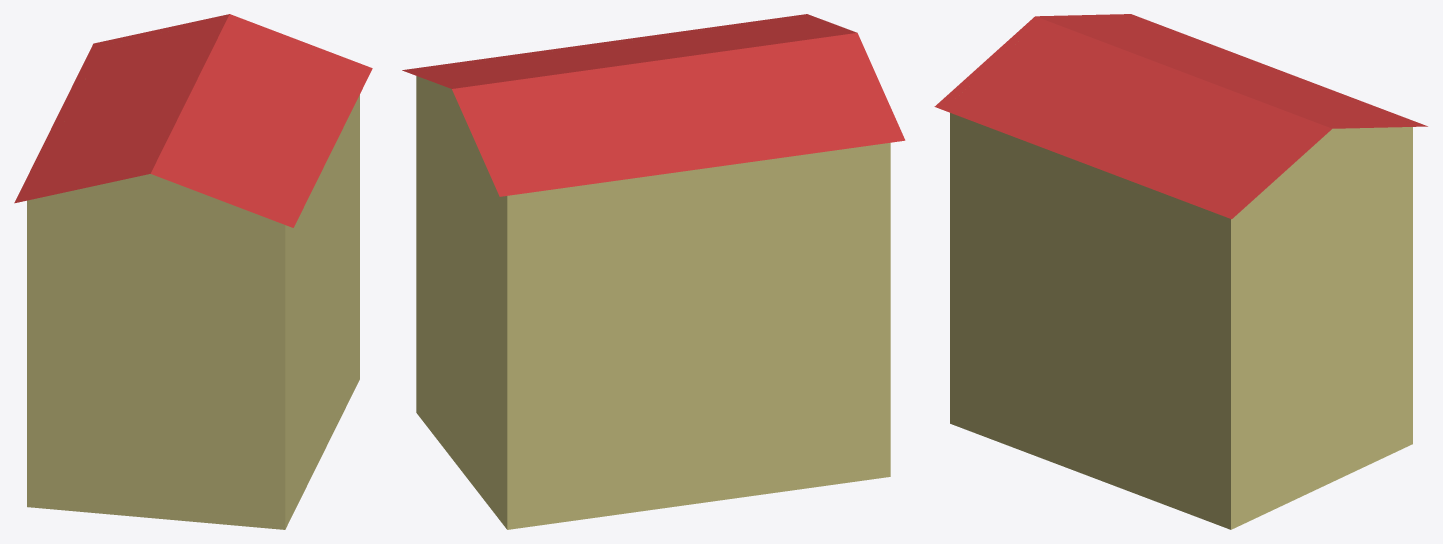
The picture shows the model from 3 angles, left to right: view 1: azimuth 30°, elevation 25°; view 2: azimuth 150°, elevation 25°; view 3: azimuth 270°, elevation 25°; orthographic projection. The views are drawn at different scales.
Bounding box in the file's own units: 10.96 × 11.15 × 8.97.
